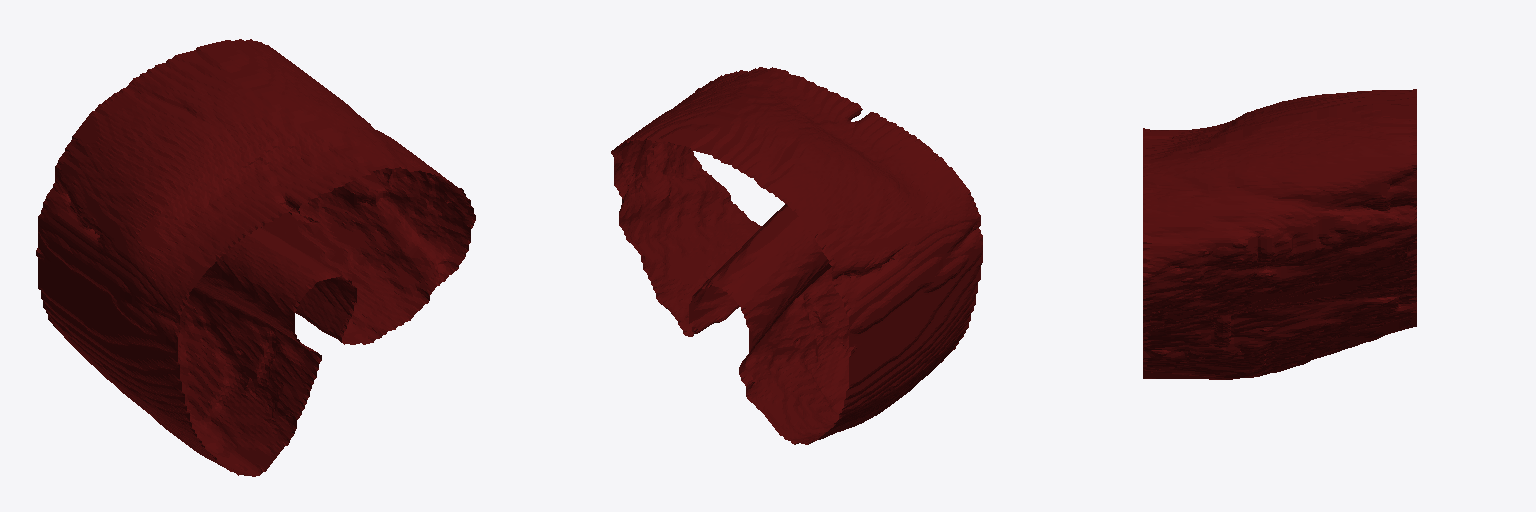
Rendered from human.obj.
3 renders of one model, left to right at view 1: azimuth 30°, elevation 25°; view 2: azimuth 150°, elevation 25°; view 3: azimuth 270°, elevation 25°, orthographic.
Visible parts, largest first — view 1: aaa; view 2: aaa; view 3: aaa.
Part boxes in pixels (bbox=[...]): aaa: bbox=[36, 39, 475, 476]; aaa: bbox=[611, 67, 982, 444]; aaa: bbox=[1143, 89, 1416, 379].
Bounding box in the file's own units: 119 × 117 × 93.